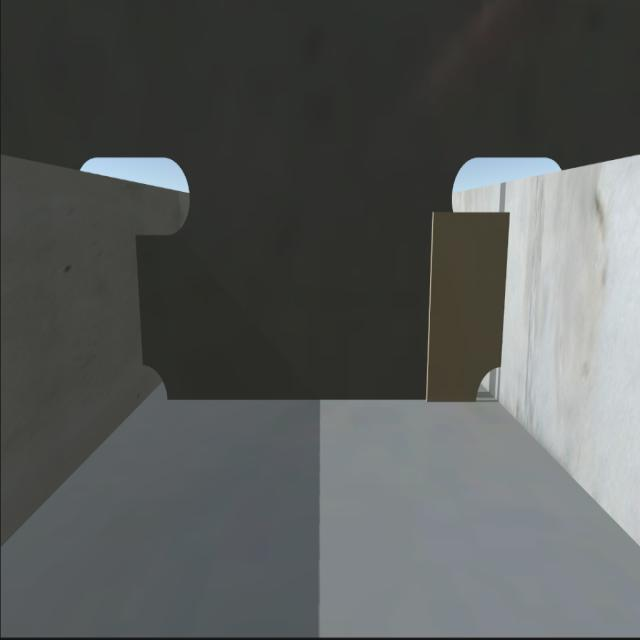fillet_hole: (140, 364, 169, 400), (473, 366, 502, 400)
fillet_yong_jeop_jang: (171, 396, 477, 406)
longi_yong_jeop_jang: (497, 210, 512, 377), (136, 241, 150, 362)
plate_CP01: (430, 211, 503, 393)
